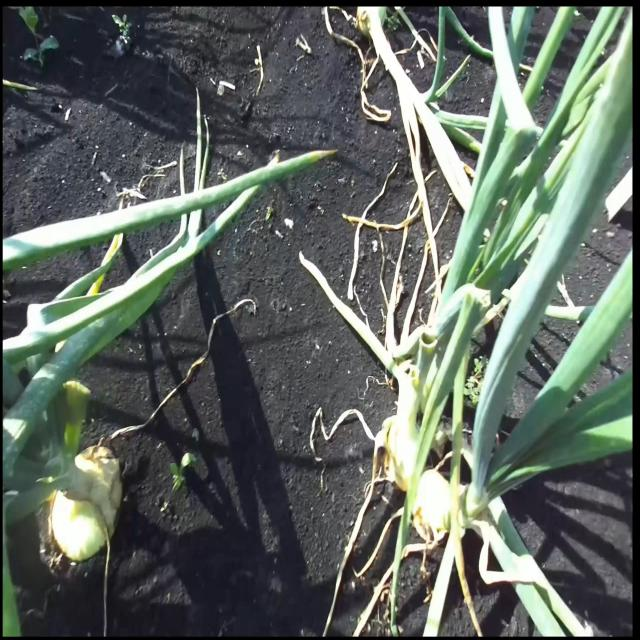onion: (49, 446, 122, 566), (410, 468, 453, 544), (381, 412, 422, 484)
